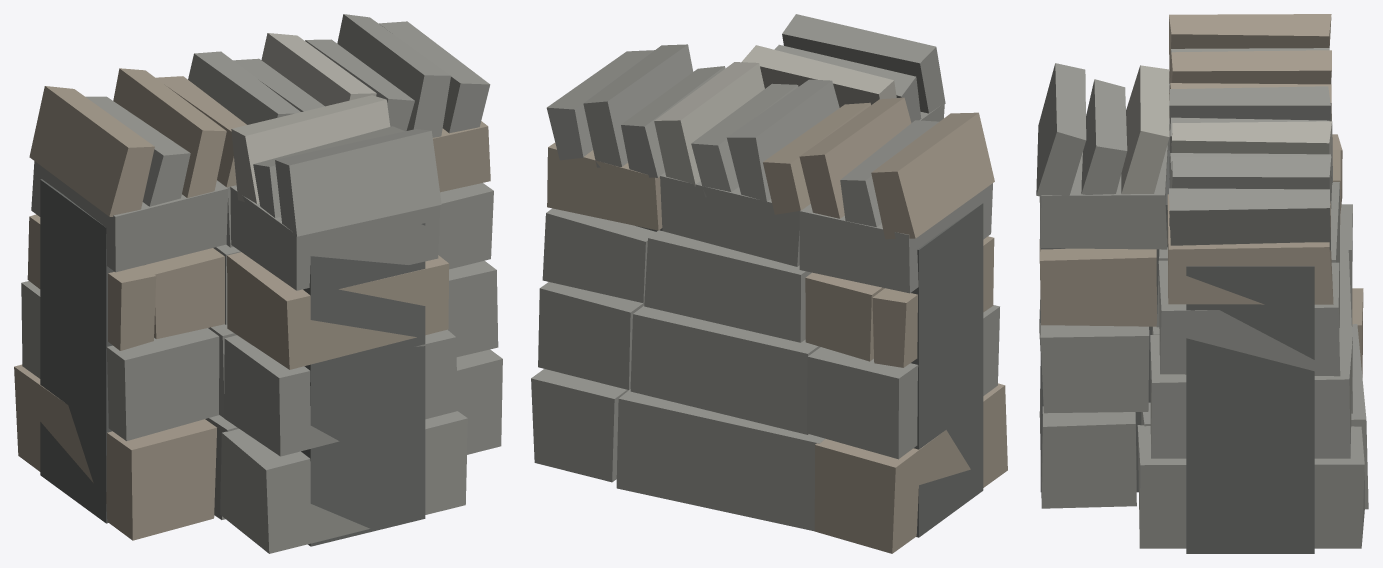
File: wall_dry_t.glb
3 renders of one model, left to right at view 1: azimuth 30°, elevation 25°; view 2: azimuth 150°, elevation 25°; view 3: azimuth 270°, elevation 25°, orthographic. The views are drawn at different scales.
Visible parts, largest first — view 1: wall_dry_t; view 2: wall_dry_t; view 3: wall_dry_t.
Boxes of the visible parts, x1,y1,x2,y2 form: wall_dry_t: [14, 14, 502, 553]; wall_dry_t: [531, 14, 1007, 553]; wall_dry_t: [1036, 14, 1368, 553].
Bounding box in the file's own units: 1.02 × 0.9707 × 0.7922.
